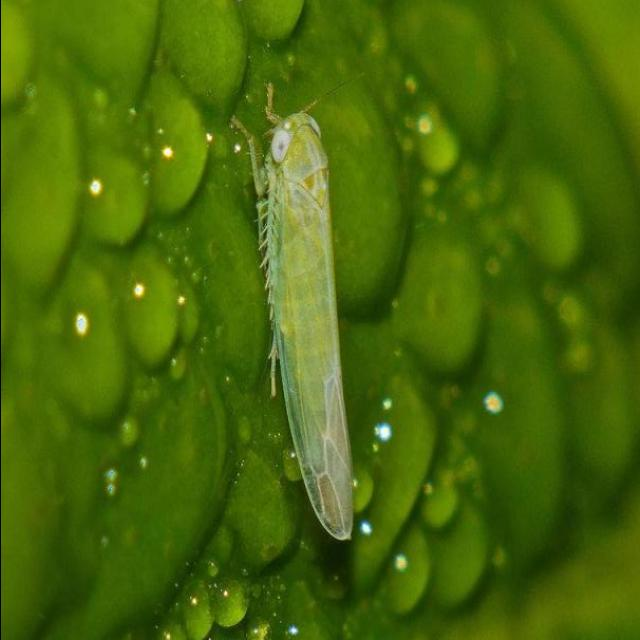green leaf hopper: (247, 83, 353, 541)
